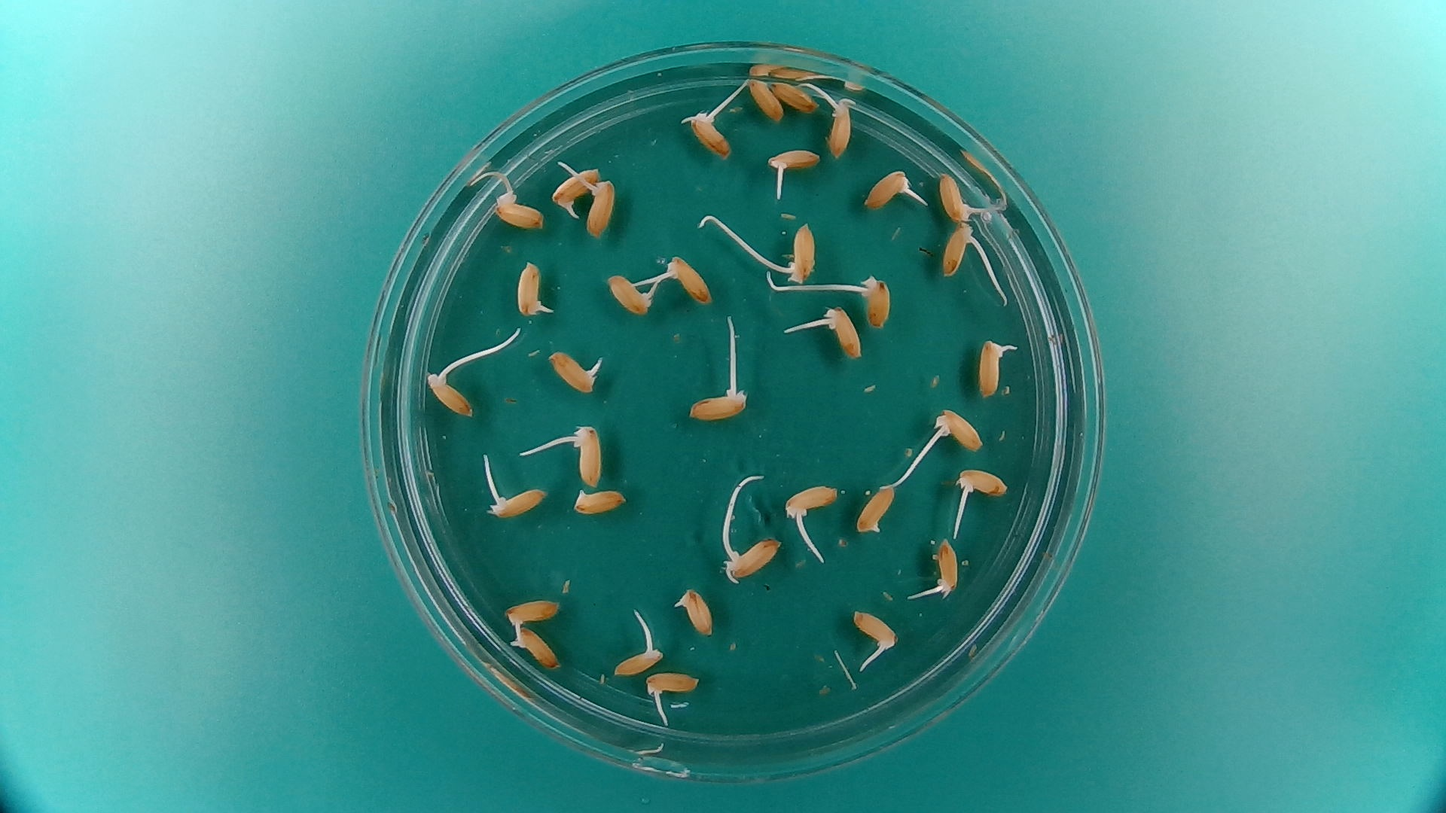no: (855, 481, 898, 537), (570, 485, 631, 516), (770, 77, 819, 115), (745, 76, 784, 123)
yes: (545, 347, 606, 396), (662, 251, 715, 306), (422, 373, 477, 420), (510, 623, 563, 670), (825, 302, 865, 361), (854, 270, 893, 330), (602, 269, 650, 316), (689, 111, 735, 160), (937, 406, 986, 451), (502, 595, 563, 631), (584, 175, 618, 239), (725, 542, 781, 580), (864, 166, 910, 212), (782, 480, 840, 516), (517, 258, 550, 321), (685, 389, 744, 424), (936, 175, 977, 224), (930, 534, 961, 598), (487, 488, 547, 521), (554, 160, 597, 206), (676, 590, 717, 638), (849, 609, 898, 648), (792, 218, 820, 286), (575, 427, 606, 487), (939, 226, 974, 279), (496, 195, 546, 231), (956, 466, 1009, 499), (767, 143, 825, 173), (975, 340, 1003, 400), (610, 645, 660, 678), (825, 105, 853, 163), (647, 672, 703, 699)
